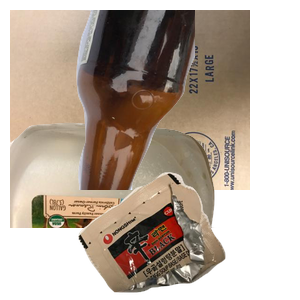cardboard: (10, 10, 250, 190)
glass: (60, 10, 300, 190)
plastic: (10, 120, 220, 300)
trash: (76, 170, 300, 300)
